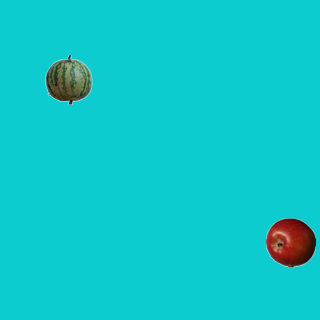Apple Braeburn: (265, 217, 315, 267)
Watermelon: (43, 54, 93, 104)
